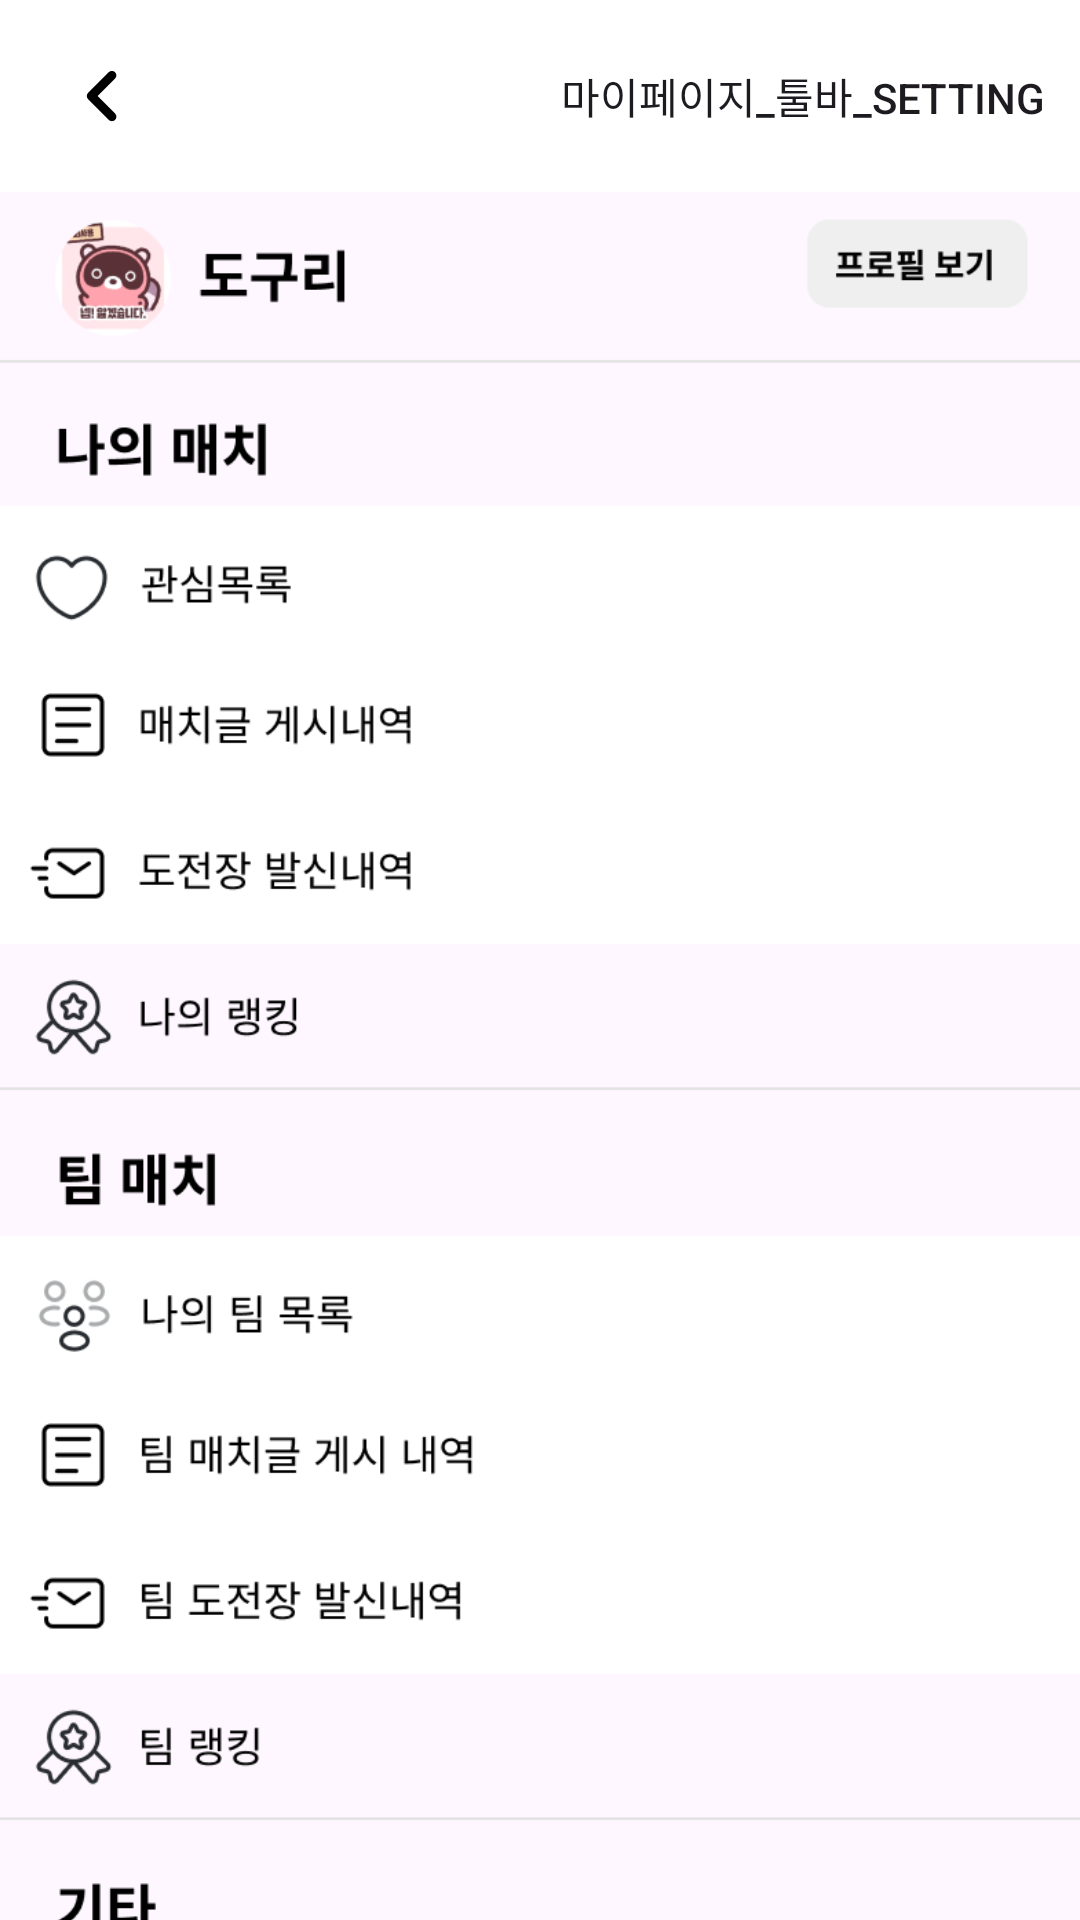

Icons on this 1080 × 1920 Android screen, each with the point to tap as (x=x, y=y):
before: (x=101, y=96)
